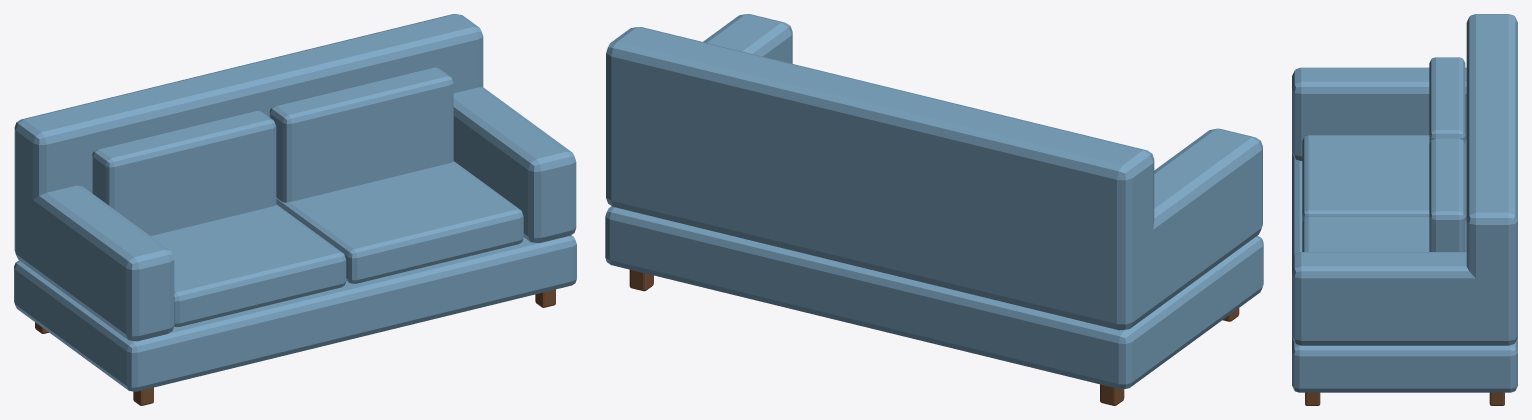
The model's file is sofa.glb.
3 renders of one model, left to right at view 1: azimuth 30°, elevation 25°; view 2: azimuth 150°, elevation 25°; view 3: azimuth 270°, elevation 25°, orthographic. The views are drawn at different scales.
Parts seen in each view (by area): view 1: Sofa_Base, Sofa_Backrest, Sofa_Back_Cushion.001, Sofa_Seat_Cushion.001, Sofa_Back_Cushion, Sofa_Arm, Sofa_Seat_Cushion, Sofa_Arm.001; view 2: Sofa_Backrest, Sofa_Base, Sofa_Arm, Sofa_Arm.001; view 3: Sofa_Arm.001, Sofa_Backrest, Sofa_Base, Sofa_Seat_Cushion, Sofa_Arm, Sofa_Seat_Cushion.001, Sofa_Back_Cushion.001, Sofa_Back_Cushion, Sofa_Foot.002, Sofa_Foot.003.
Boxes of the visible parts, x1=… form: Sofa_Base: x1=14, y1=235, x2=576, y2=391; Sofa_Backrest: x1=14, y1=14, x2=483, y2=199; Sofa_Back_Cushion.001: x1=269, y1=67, x2=453, y2=202; Sofa_Seat_Cushion.001: x1=276, y1=161, x2=523, y2=283; Sofa_Back_Cushion: x1=92, y1=110, x2=276, y2=235; Sofa_Arm: x1=14, y1=185, x2=174, y2=341; Sofa_Seat_Cushion: x1=151, y1=204, x2=346, y2=327; Sofa_Arm.001: x1=453, y1=87, x2=576, y2=243; Sofa_Backrest: x1=606, y1=27, x2=1154, y2=329; Sofa_Base: x1=605, y1=206, x2=1263, y2=389; Sofa_Arm: x1=1081, y1=128, x2=1262, y2=330; Sofa_Arm.001: x1=606, y1=14, x2=792, y2=212; Sofa_Arm.001: x1=1292, y1=252, x2=1517, y2=345; Sofa_Backrest: x1=1466, y1=14, x2=1517, y2=343; Sofa_Base: x1=1292, y1=153, x2=1517, y2=392; Sofa_Seat_Cushion: x1=1302, y1=135, x2=1466, y2=221; Sofa_Arm: x1=1292, y1=67, x2=1466, y2=160; Sofa_Seat_Cushion.001: x1=1302, y1=216, x2=1466, y2=251; Sofa_Back_Cushion.001: x1=1429, y1=138, x2=1465, y2=251; Sofa_Back_Cushion: x1=1429, y1=57, x2=1465, y2=143; Sofa_Foot.002: x1=1305, y1=392, x2=1320, y2=405; Sofa_Foot.003: x1=1489, y1=392, x2=1504, y2=405.
Size of the model in its own units: 1.9 by 0.85 by 0.88.
